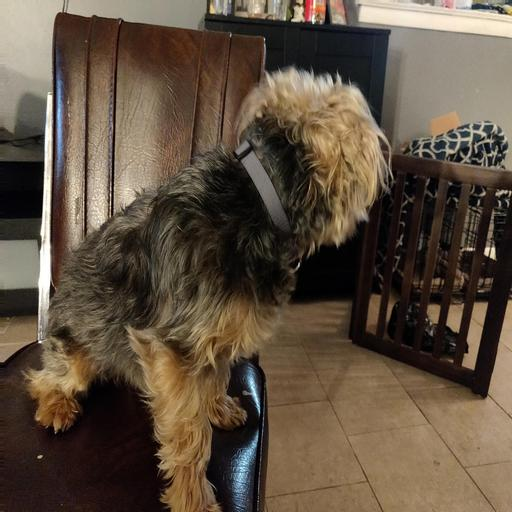dog: (51, 61, 413, 423)
